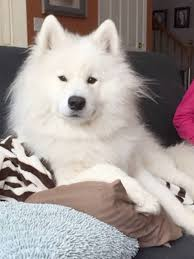dog: (1, 10, 194, 234)
